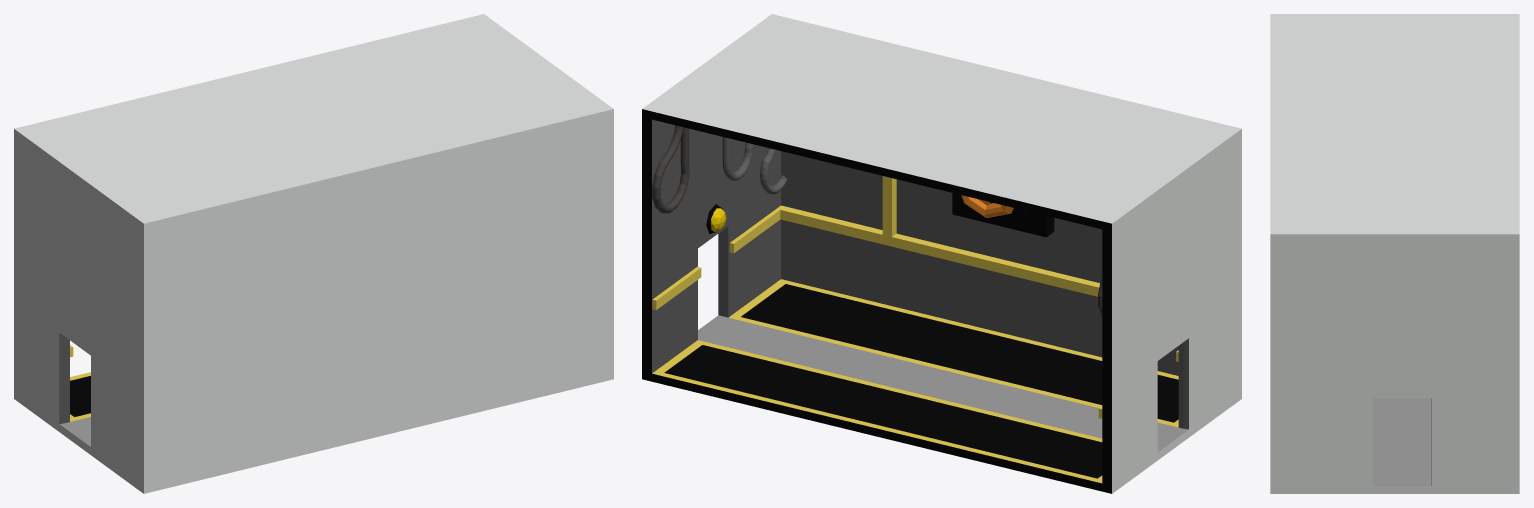
File: Hallway1.fbx
The picture shows the model from 3 angles, left to right: view 1: azimuth 30°, elevation 25°; view 2: azimuth 150°, elevation 25°; view 3: azimuth 270°, elevation 25°; orthographic projection. The views are drawn at different scales.
Parts seen in each view (by area): view 1: Hall1; view 2: Hall1; view 3: Hall1.
Boxes of the visible parts, <box> form: Hall1: <box>14,14,613,493</box>; Hall1: <box>642,14,1241,493</box>; Hall1: <box>1270,14,1519,493</box>.
Size of the model in its own units: 1806 by 992 by 864.
